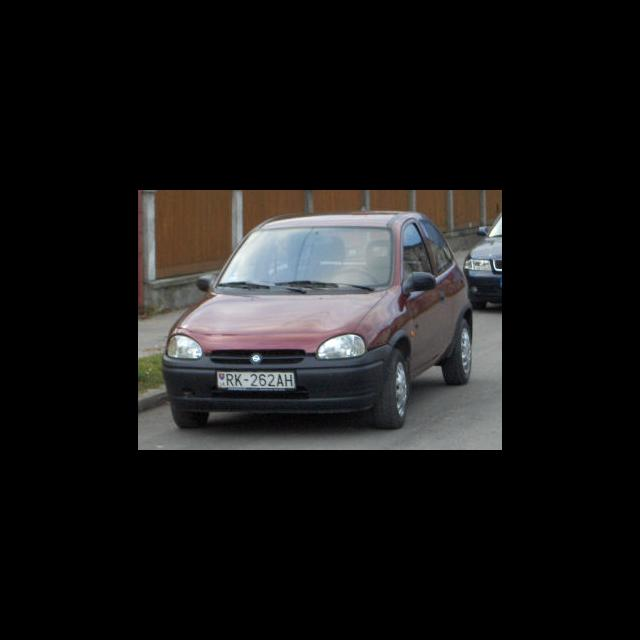Plate: (215, 368, 297, 391)
